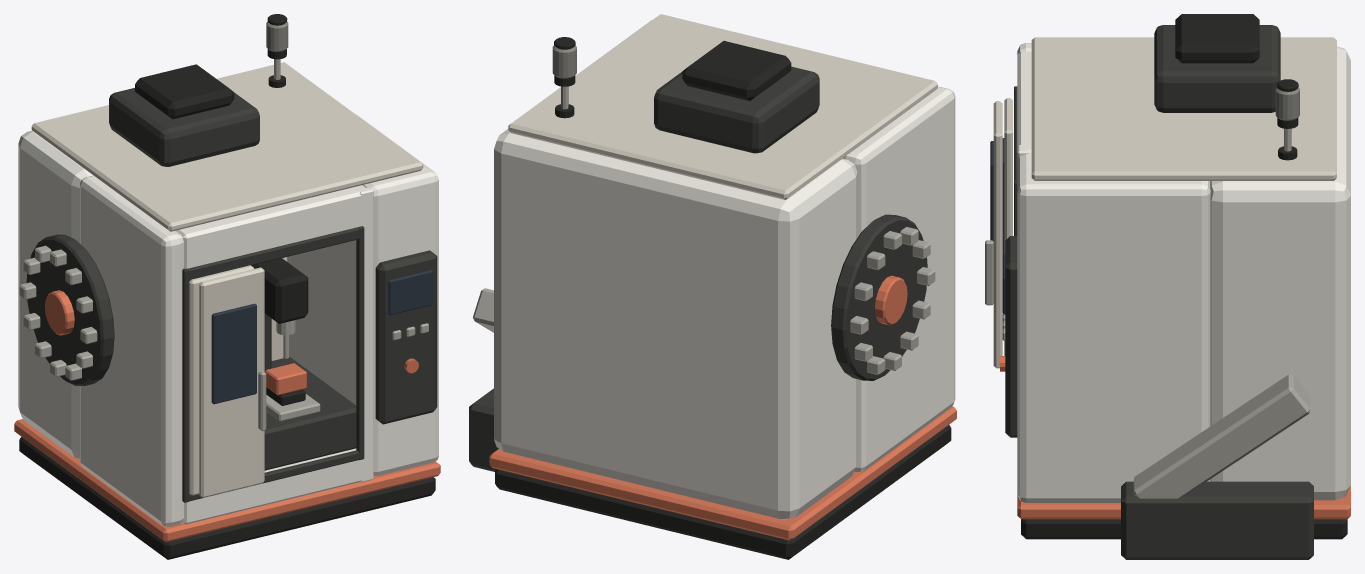
File: machining_center.glb
The picture shows the model from 3 angles, left to right: view 1: azimuth 30°, elevation 25°; view 2: azimuth 150°, elevation 25°; view 3: azimuth 270°, elevation 25°; orthographic projection. The views are drawn at different scales.
Parts seen in each view (by area): view 1: machining_center_parts, magazine_parts, spindle_parts, table_parts; view 2: machining_center_parts, magazine_parts; view 3: machining_center_parts.
Boxes of the visible parts, x1=… form: machining_center_parts: x1=14, y1=14, x2=440, y2=559; magazine_parts: x1=19, y1=234, x2=114, y2=385; spindle_parts: x1=251, y1=258, x2=308, y2=358; table_parts: x1=265, y1=363, x2=320, y2=421; machining_center_parts: x1=469, y1=14, x2=956, y2=559; magazine_parts: x1=831, y1=214, x2=935, y2=380; machining_center_parts: x1=985, y1=14, x2=1350, y2=559.
Bounding box in the file's own units: 2.47 × 2.75 × 2.08.
